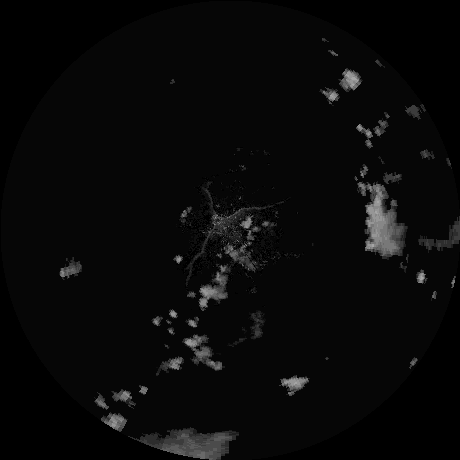frontgust: (204, 187, 217, 220)
